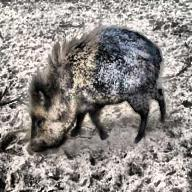boar: (5, 27, 174, 149)
